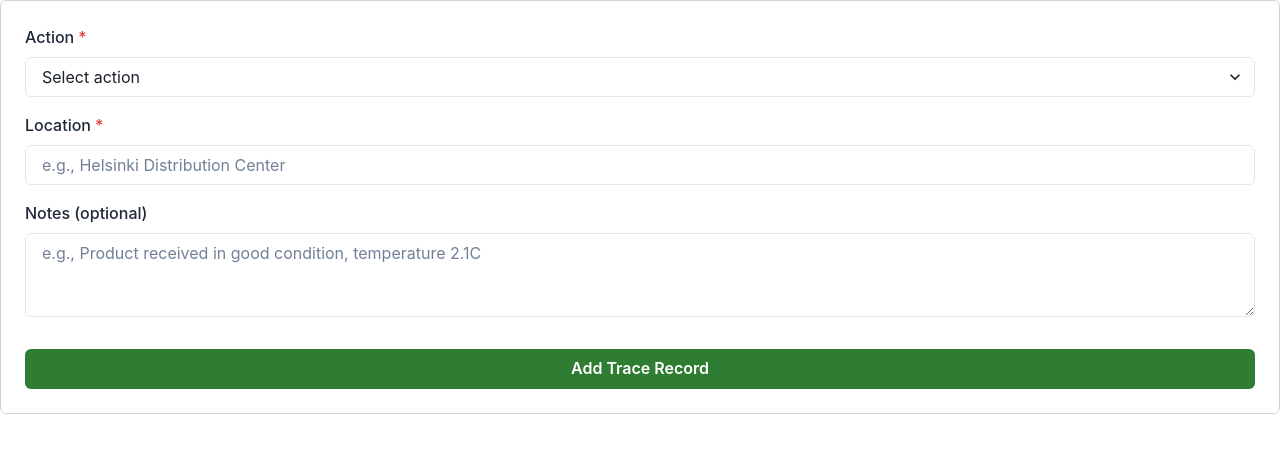
TraceRecordForm › Submission › should show loading state during submission
# Fill form
Step 1. Select "Received" in the dropdown → [640, 77], box [25, 57, 1255, 97]
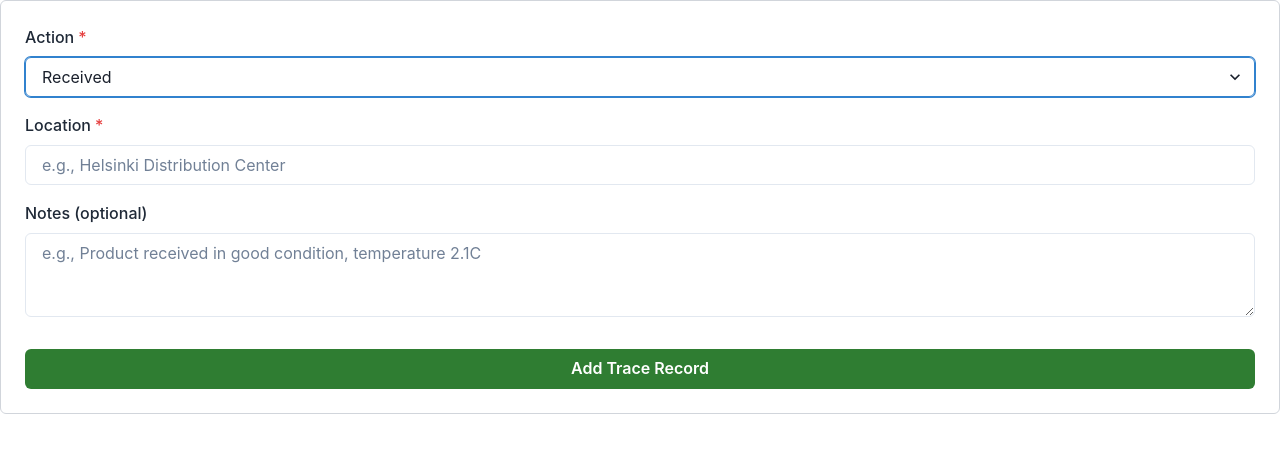
Step 2. Type "Test" into the field with placeholder "e.g., Helsinki Distribution Center" → [640, 165], box [25, 145, 1255, 185]
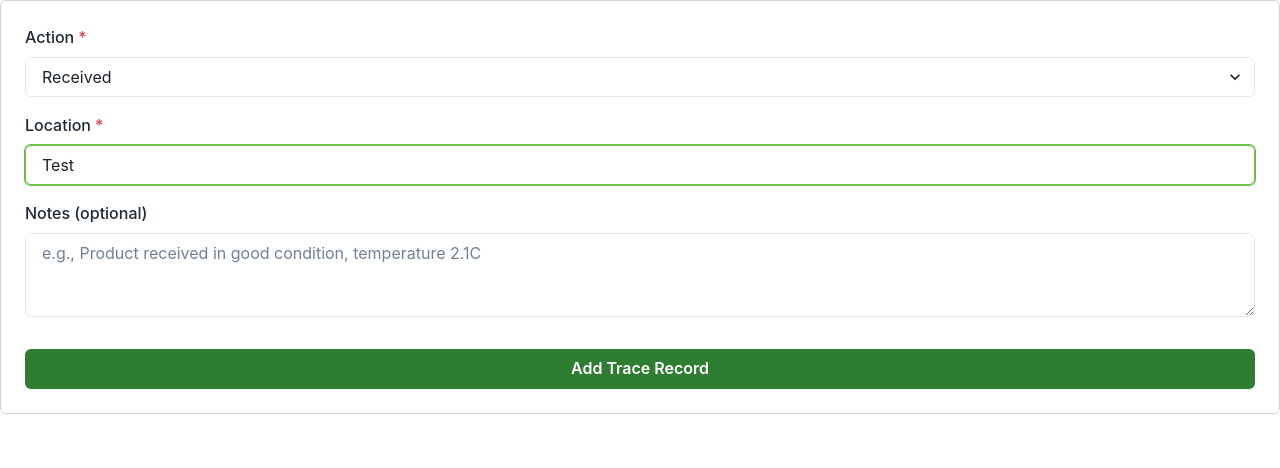
Step 3. Click the button "Add Trace Record" → [640, 369], box [25, 349, 1255, 389]
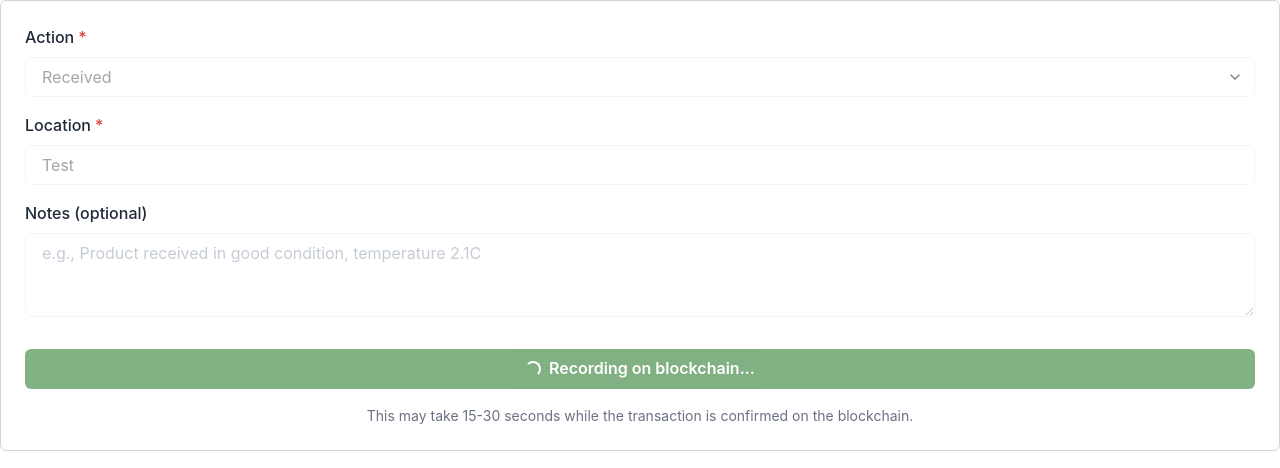
Now the button "Recording on blockchain..." is shown, box [25, 349, 1255, 389]
Now the text "This may take 15-30 seconds" is shown, box [367, 407, 913, 424]
